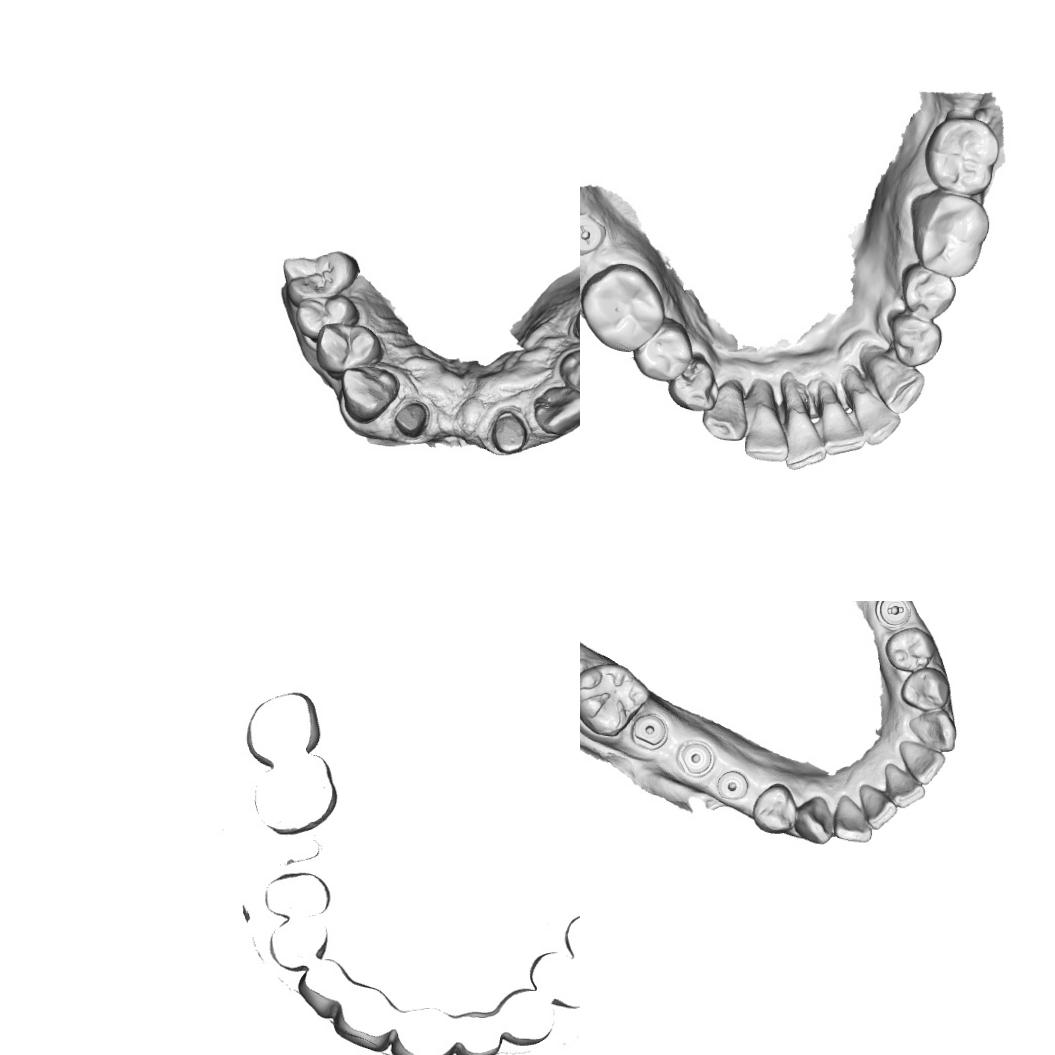canine: (338, 366, 399, 425), (873, 357, 924, 414), (702, 380, 748, 442), (907, 708, 959, 754), (794, 793, 834, 846), (557, 343, 580, 403)
crown: (486, 404, 530, 458), (392, 398, 431, 436)
implant: (631, 708, 669, 748), (680, 740, 714, 778), (716, 767, 750, 803)
implant_minus: (580, 209, 607, 254), (875, 601, 914, 631)
incisor: (849, 382, 903, 446), (782, 400, 826, 471), (814, 395, 863, 458), (742, 396, 788, 462), (530, 384, 580, 437), (896, 736, 946, 786), (830, 792, 874, 844), (882, 761, 925, 810), (856, 781, 895, 832)
molar: (580, 261, 667, 352), (912, 188, 992, 280), (924, 114, 1000, 198), (580, 657, 647, 738), (282, 250, 358, 303), (294, 293, 360, 340)
premolar: (635, 318, 693, 384), (314, 322, 382, 376), (903, 263, 954, 322), (668, 354, 718, 413), (889, 310, 940, 366), (884, 627, 941, 676), (751, 782, 798, 838), (898, 666, 954, 712)
